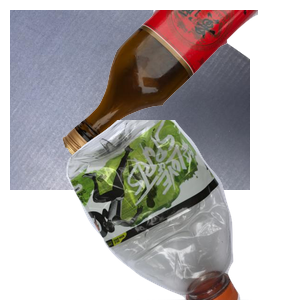cardboard: (10, 10, 250, 190)
glass: (60, 10, 300, 163)
plastic: (64, 120, 300, 300)
trash: (90, 129, 295, 300)
